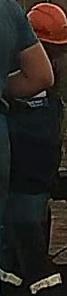helmet: (25, 3, 67, 44)
